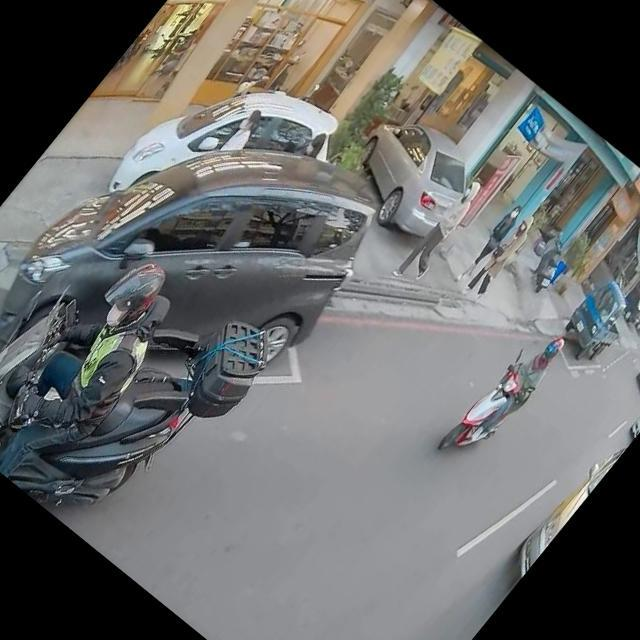person: (0, 226, 211, 505), (448, 319, 572, 462), (386, 160, 502, 292), (462, 208, 544, 302), (449, 198, 530, 292), (212, 100, 270, 166), (298, 124, 336, 165)
